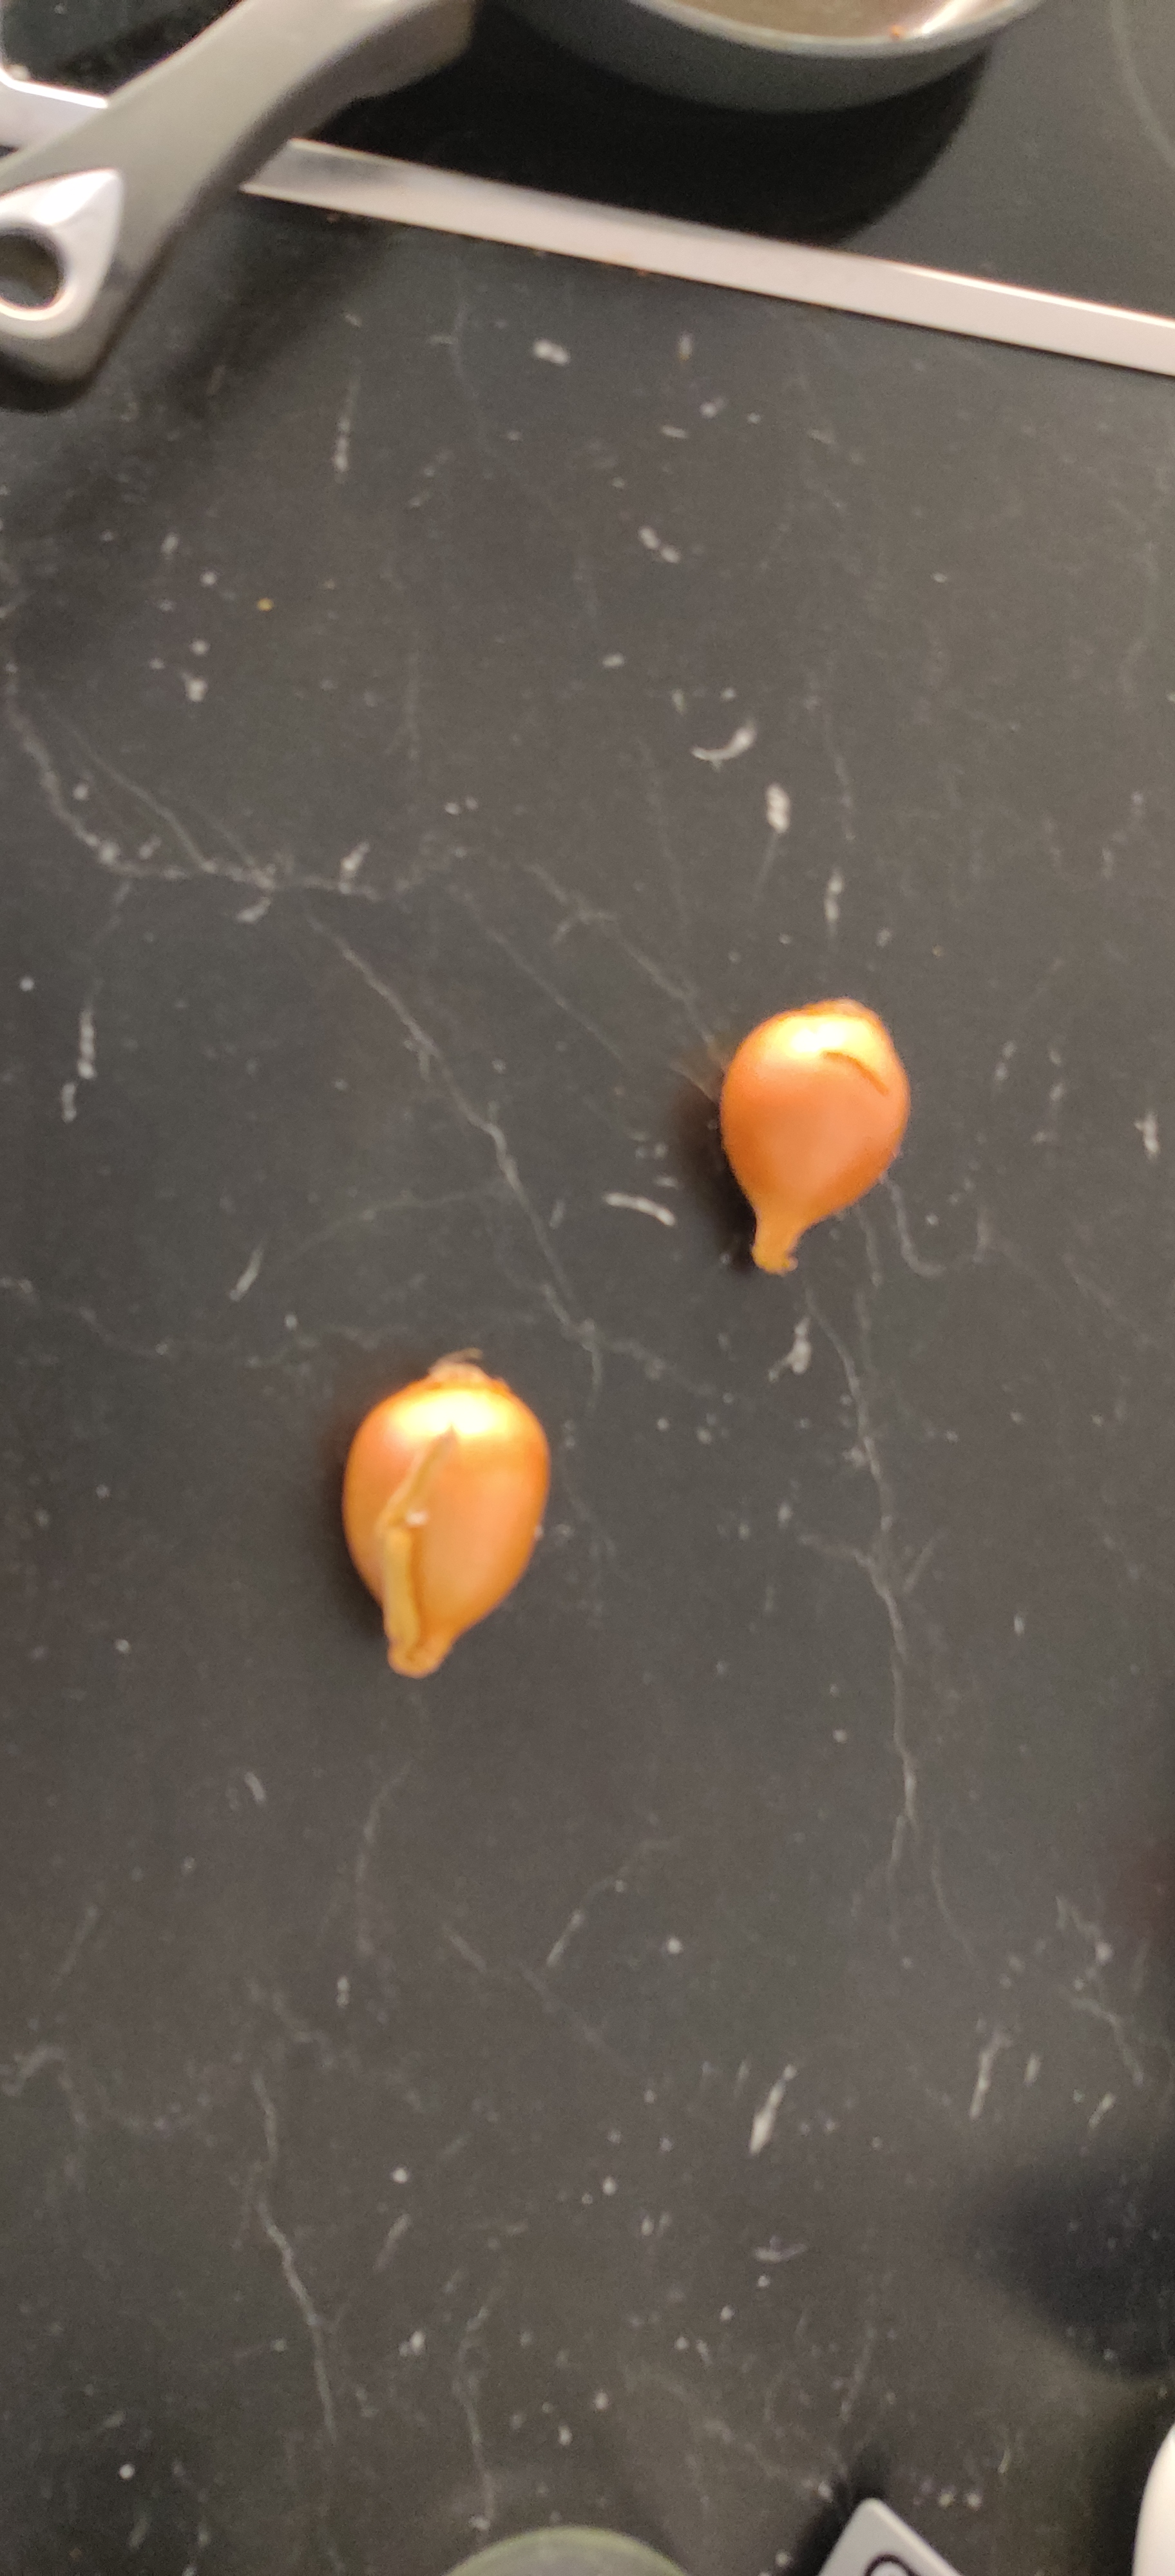Zwiebel: (340, 1364, 549, 1676), (718, 997, 910, 1276)
